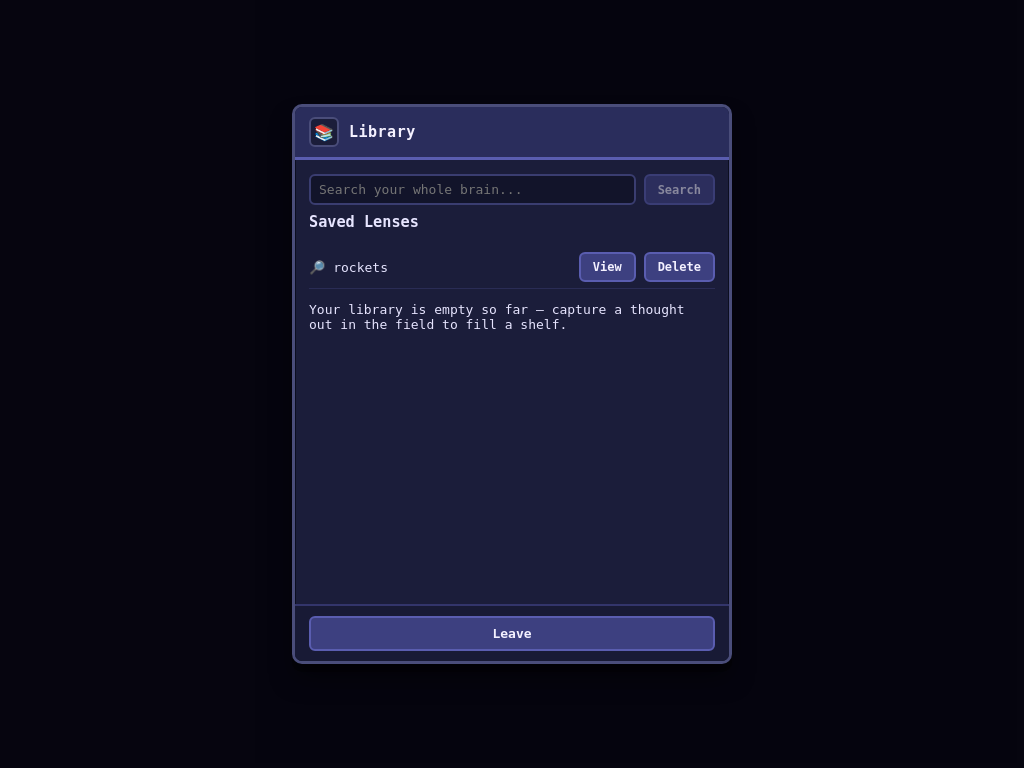
Scenario: LibraryOverlay › Lenses (lenses-revival.md, task #72) › deleting a lens removes it from the real list, behind a real confirm step (2026-09-15 audit fix)
Expected: the text "rockets" is shown, x1=333 y1=260 x2=388 y2=275
Click the button "Delete".
click(679, 267)  # box x1=644 y1=252 x2=715 y2=282
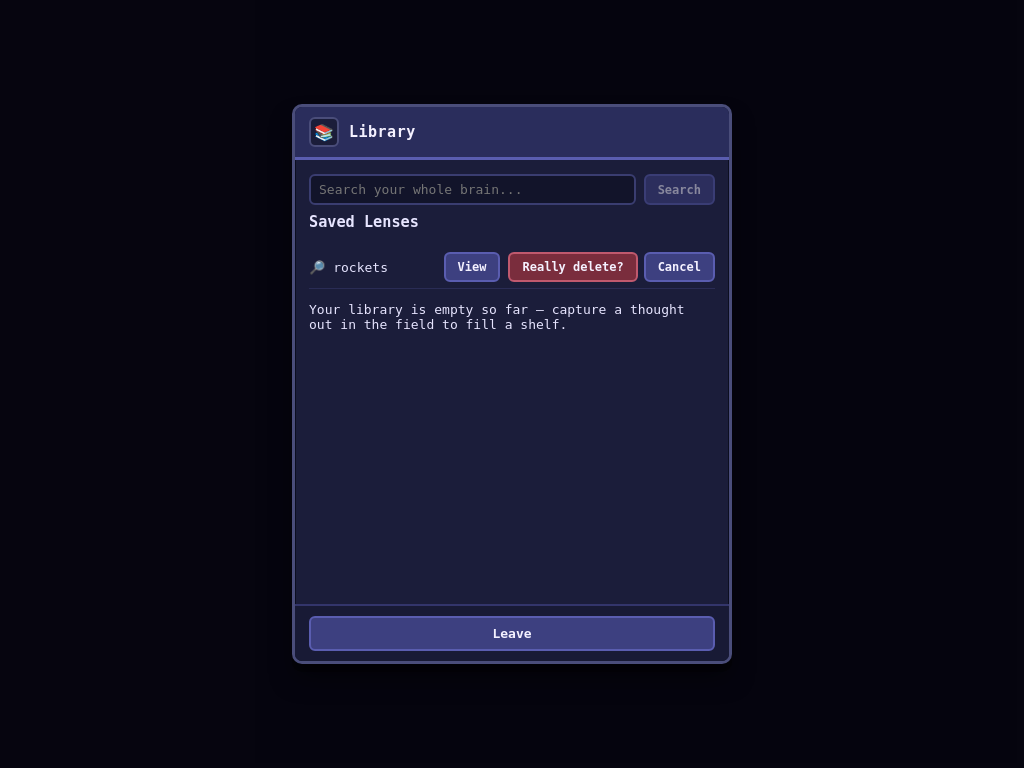
Click the button "Really delete?".
click(573, 267)  # box x1=508 y1=252 x2=638 y2=282
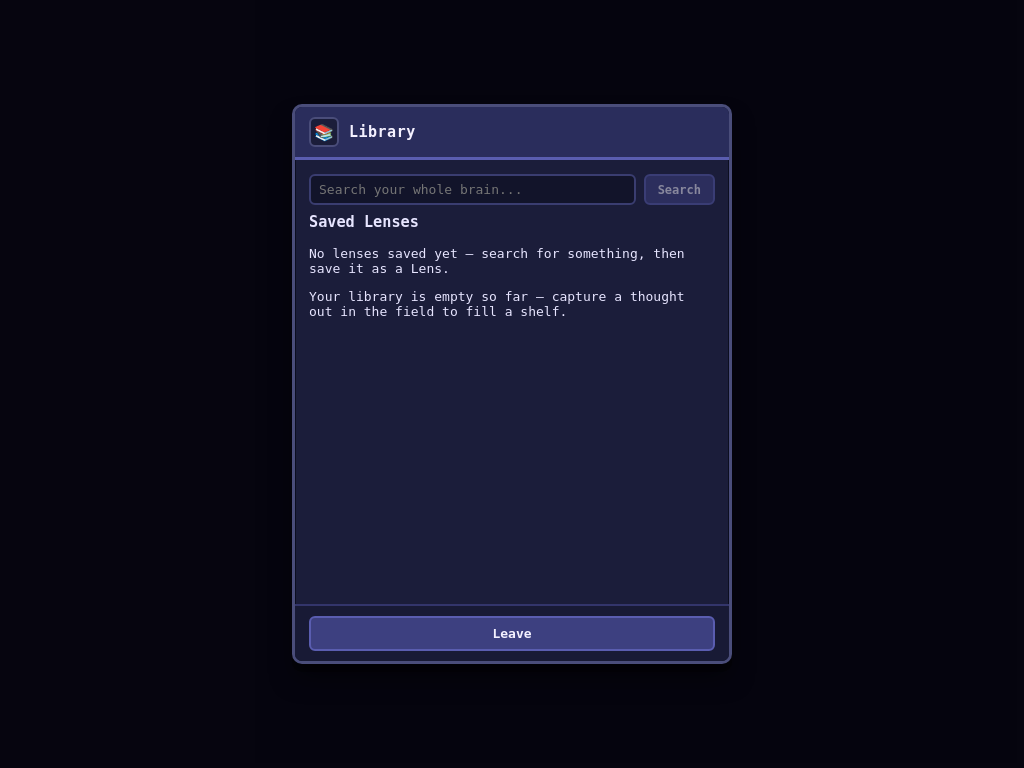
Now the text "rockets" is gone
